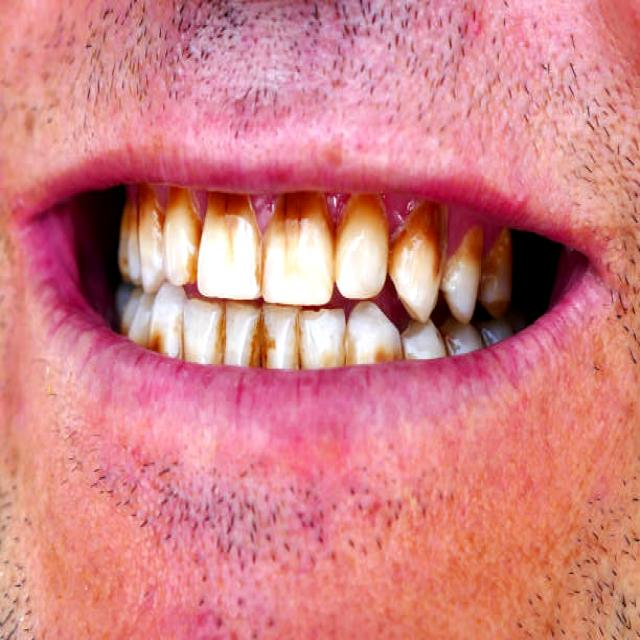tooth-discoloration: (264, 191, 334, 306), (388, 201, 442, 322), (163, 187, 201, 285), (118, 185, 140, 284), (264, 304, 298, 367)
